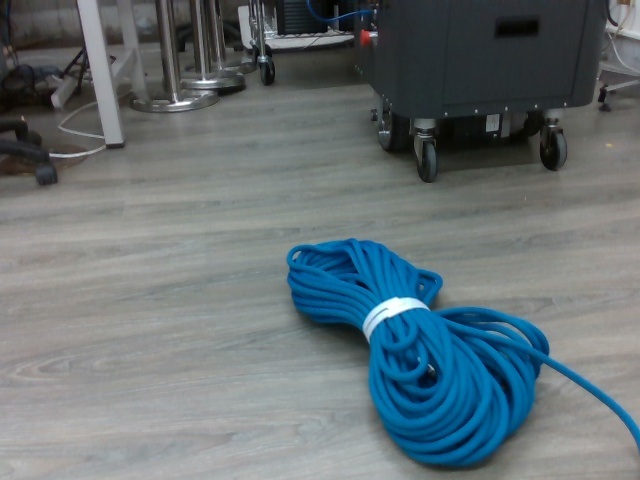rope: (281, 229, 552, 468)
